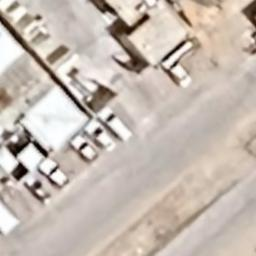pickup: (34, 155, 74, 191), (67, 131, 100, 168), (20, 173, 52, 204)
sedan: (83, 119, 119, 155), (164, 55, 196, 91)
van: (94, 104, 139, 144)
